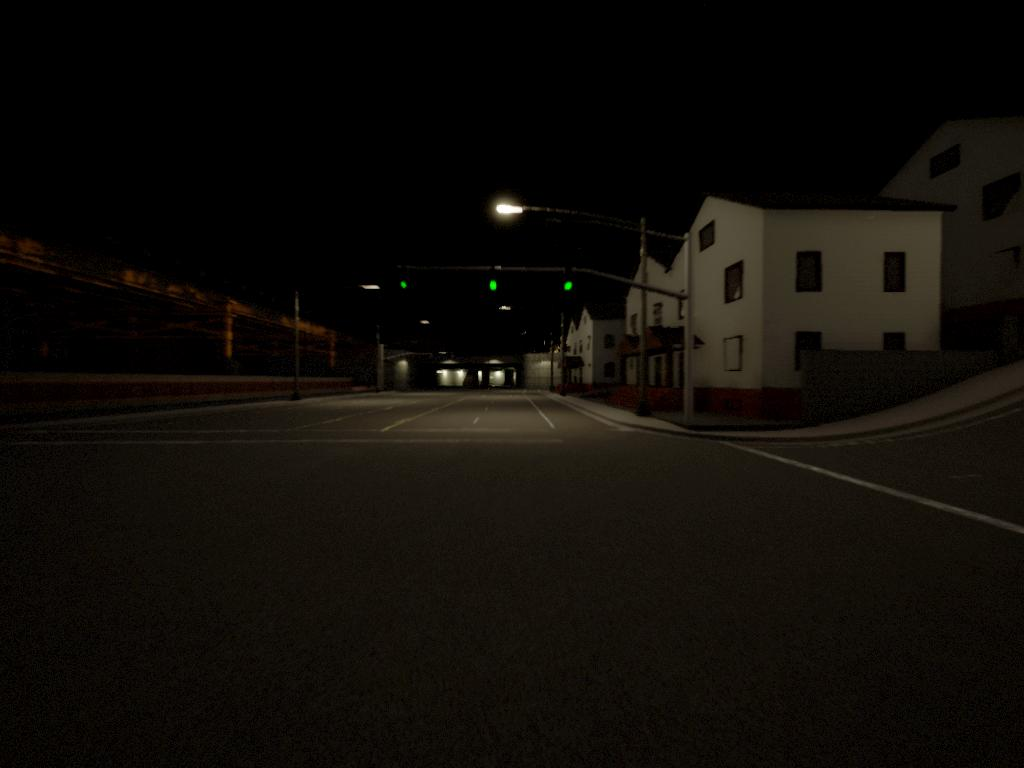traffic_light: (562, 274, 576, 295), (396, 276, 410, 293), (489, 277, 501, 295)
